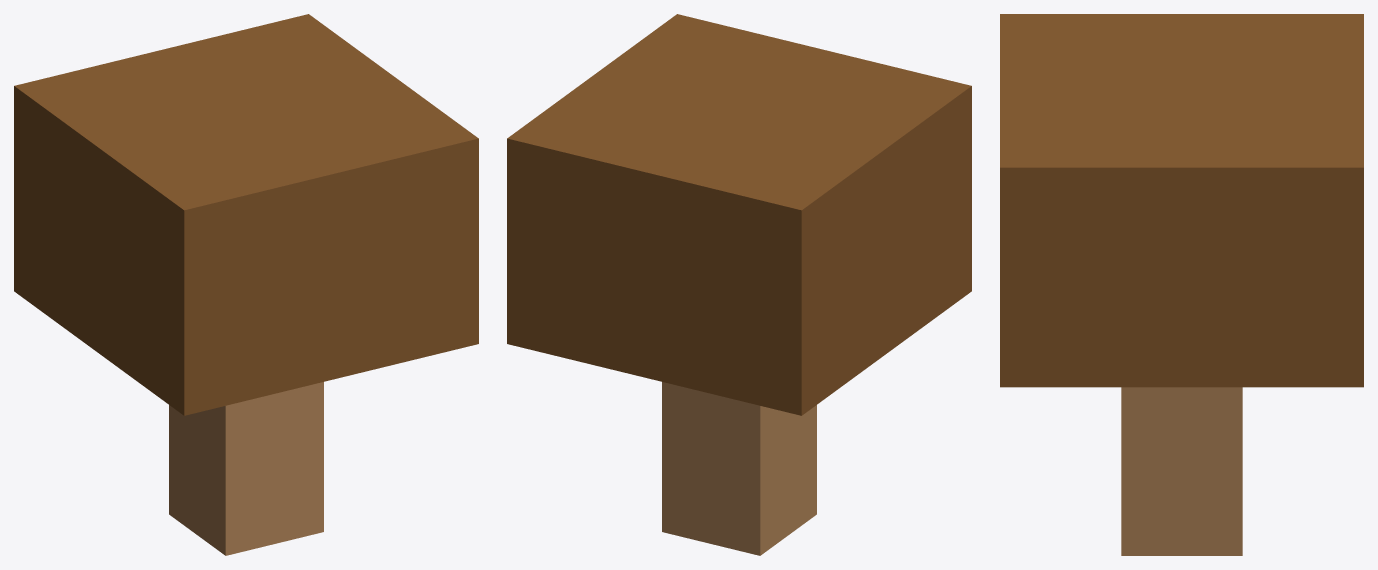
The model's file is Mushroom_4.fbx.
3 renders of one model, left to right at view 1: azimuth 30°, elevation 25°; view 2: azimuth 150°, elevation 25°; view 3: azimuth 270°, elevation 25°, orthographic. The views are drawn at different scales.
Visible parts, largest first — view 1: Mushroom_4; view 2: Mushroom_4; view 3: Mushroom_4.
Part boxes in pixels (<box>): Mushroom_4: <box>14,14,478,555</box>; Mushroom_4: <box>507,14,971,555</box>; Mushroom_4: <box>1000,14,1363,555</box>.
Size of the model in its own units: 300 by 400 by 300.
